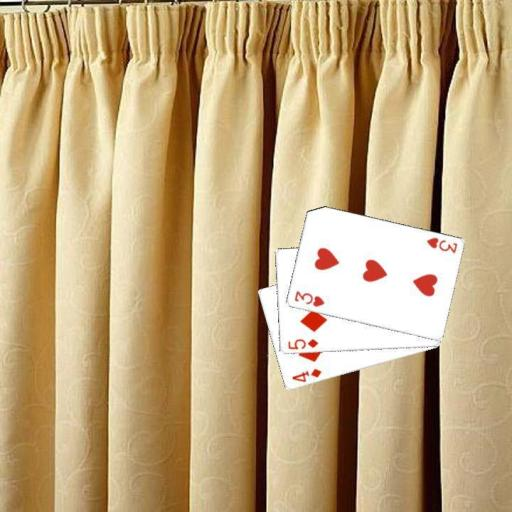card-corner: (291, 288, 326, 309), (423, 234, 459, 254), (289, 366, 323, 384), (285, 336, 319, 351)
